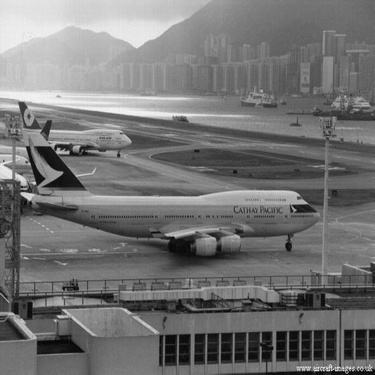airplane: (7, 100, 329, 259), (1, 105, 134, 160), (1, 151, 36, 217)
